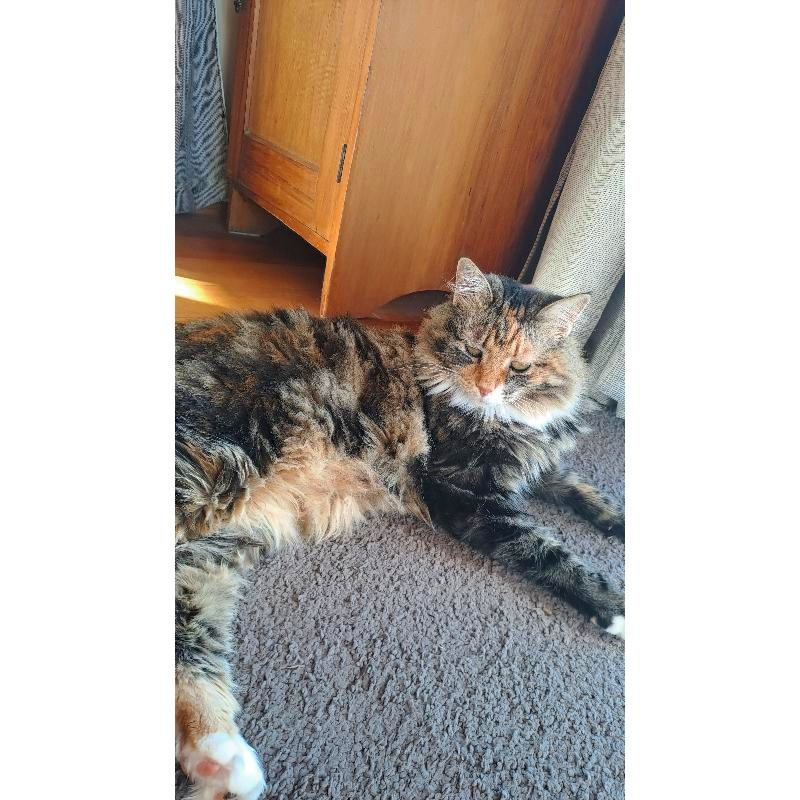red: (175, 256, 625, 800)
